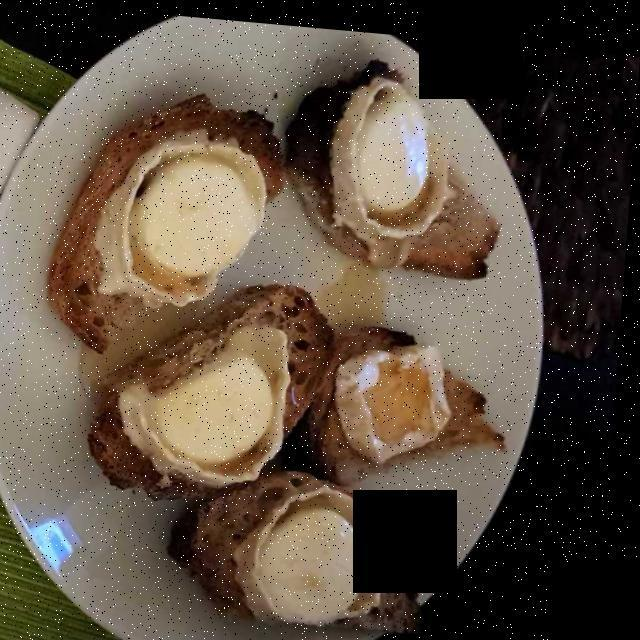bread: (103, 284, 499, 610)
cheese: (78, 119, 289, 324)
honey: (300, 69, 468, 248)
